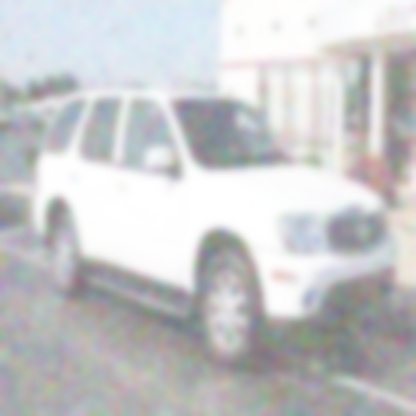Vehicle: (32, 83, 404, 373)
